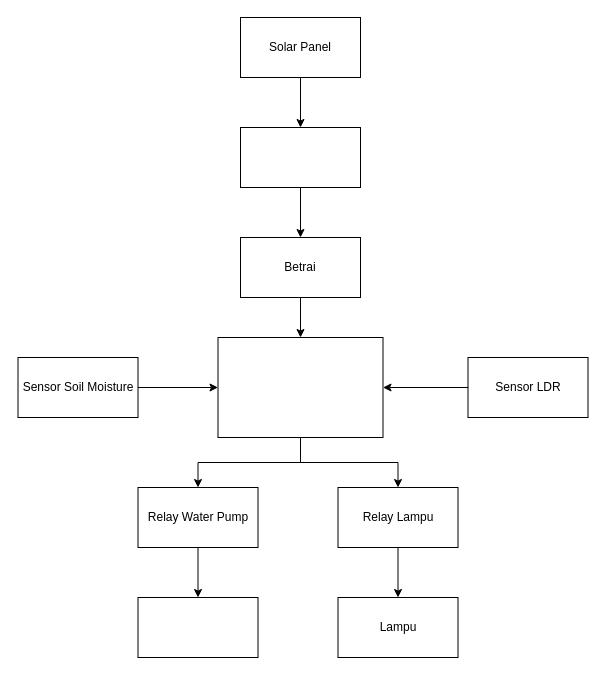
This 605x675 diagram has some shape labels left out. The shapes that lost their labels are listed below. From the top down, each one's centre as x and y in pixels, then its label:
At (300,157): "Solar Cell Controller".
At (300,387): "Arduino Uno R3".
At (197,627): "Water Pump Mini".
